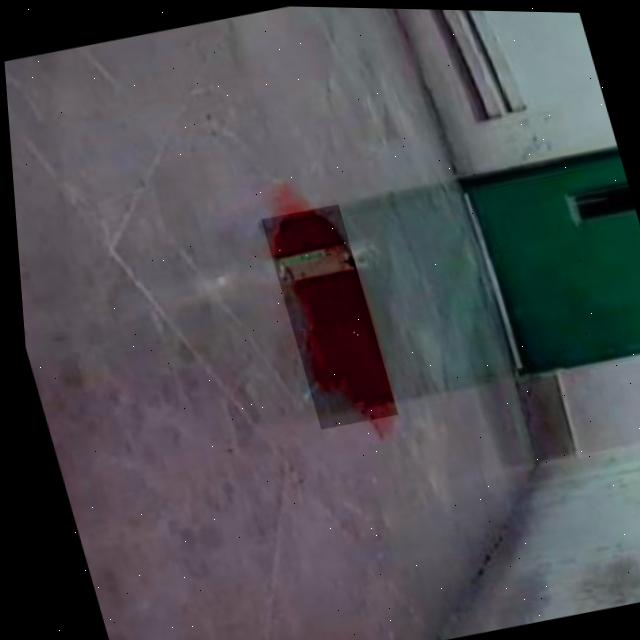spillage: (265, 210, 383, 417)
